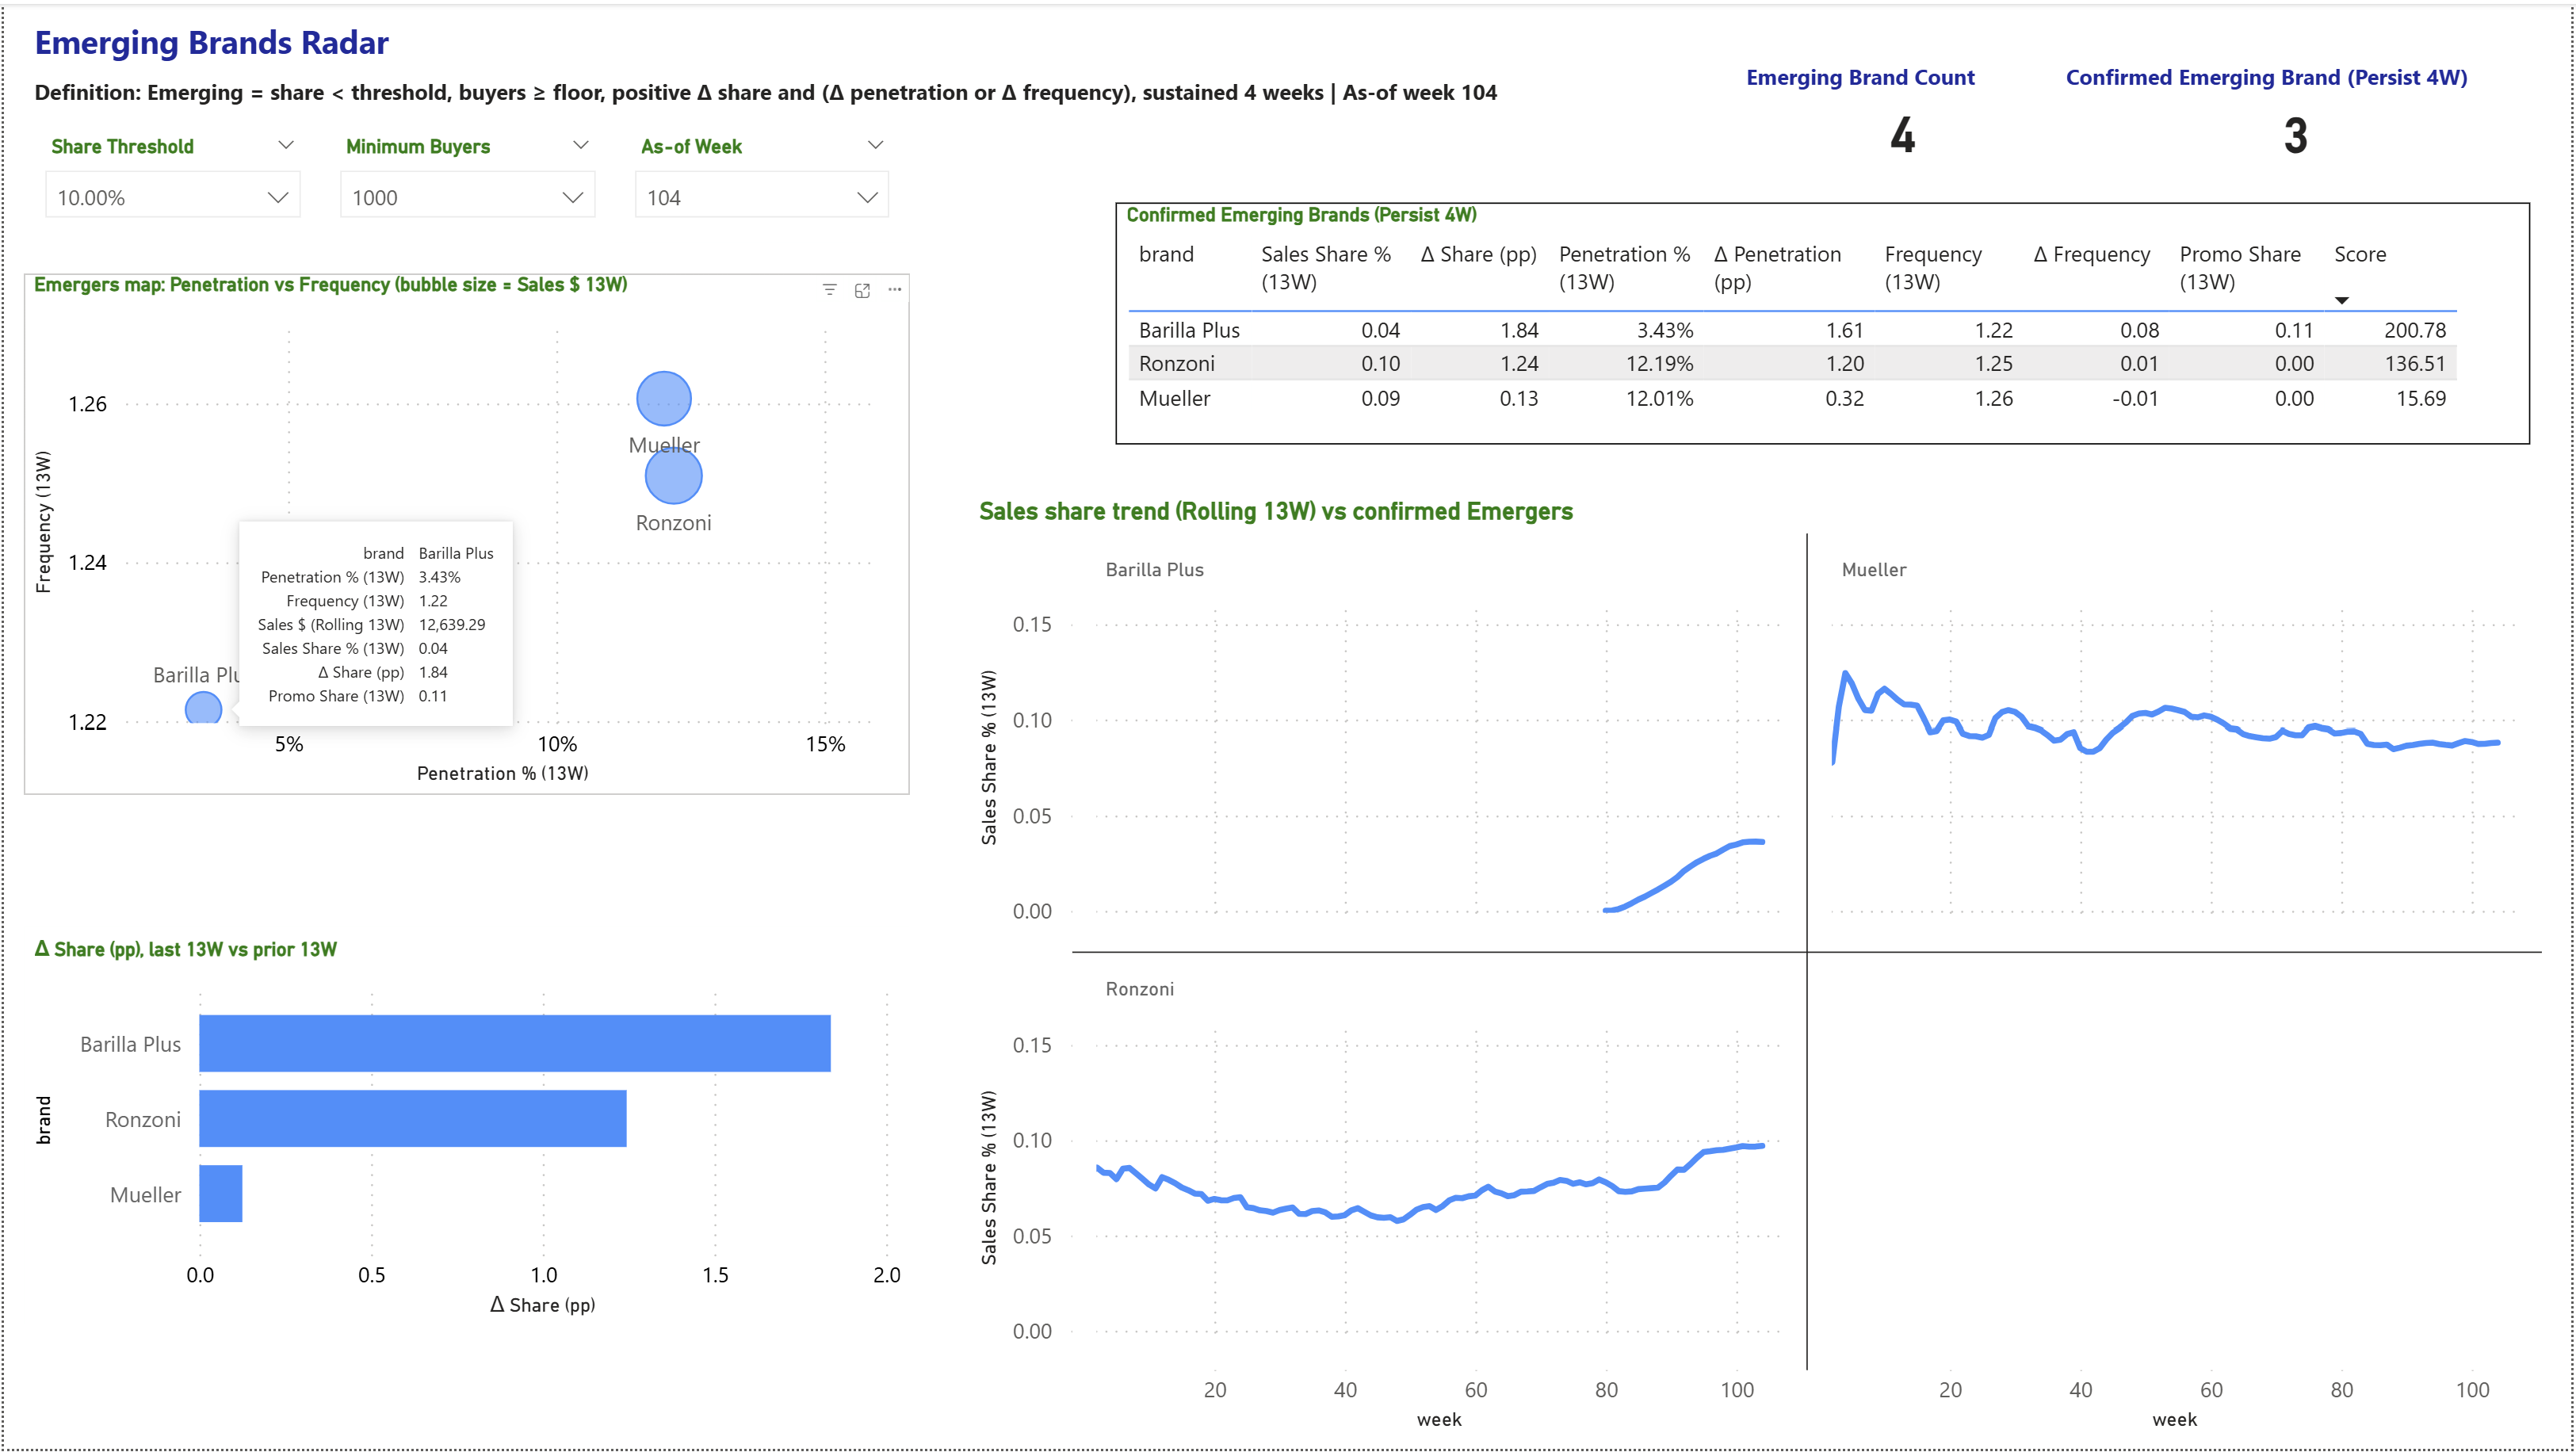

This screenshot's page, from the dashboard's own definition file:
{"tool":"powerbi","page":{"name":"03 Emerging Brands Radar","canvas":[1280,720],"ordinal":2},"visuals":[{"type":"textbox","box":[10.3,2.4,189.7,35.9],"z":0},{"type":"tableEx","title":"Confirmed Emerging Brands (Persist 4W)","fields":{"Values":["DimProduct.brand","DimWeek.Sales Share % (Rolling 13W)","zz_Measures.Δ Share (pp)","DimWeek.Penetration % (Rolling 13W)","zz_Measures.Δ Penetration (pp)","DimWeek.Frequency (Rolling 13W)","DimWeek.Δ Frequency","zz_Measures.Promo Sales Share (13W)","zz_Measures.Emerging Score"]},"box":[554.5,99.1,705.3,120.4],"z":1000},{"type":"slicer","fields":{"Values":["BuyerFloor.MinBuyers"]},"box":[157.8,60.4,147.1,57.8],"z":2000},{"type":"slicer","fields":{"Values":["AsOfWeek.Value"]},"box":[304.6,60.5,147,58.3],"z":3000},{"type":"slicer","fields":{"Values":["ShareThreshold.SharePct"]},"box":[10.7,60.4,147.1,57.8],"z":4000},{"type":"scatterChart","title":"Emergers map: Penetration vs Frequency (bubble size = Sales $ 13W)","fields":{"X":["DimWeek.Penetration % (Rolling 13W)"],"Y":["DimWeek.Frequency (Rolling 13W)"],"Size":["DimWeek.Sales $ (Rolling 13W)"],"Category":["DimProduct.brand"]},"box":[10.3,134.4,441.4,259],"z":5000},{"type":"lineChart","title":"Sales share trend (Rolling 13W) vs confirmed Emergers","fields":{"Rows":["DimProduct.brand"],"Category":["DimDay.week"],"Y":["DimWeek.Sales Share % (Rolling 13W)"]},"box":[481.5,245.6,790.4,471.2],"z":6000},{"type":"textbox","box":[10.3,28,794.6,33.4],"z":8000},{"type":"clusteredBarChart","title":"Δ Share (pp), last 13W vs prior 13W","fields":{"Category":["DimProduct.brand"],"Y":["zz_Measures.Δ Share (pp)"]},"box":[10.3,459.6,441.4,198.8],"z":9000},{"type":"card","fields":{"Values":["zz_Measures.Emerging Count"]},"box":[893.3,27.4,106.3,73.1],"z":10000},{"type":"card","fields":{"Values":["zz_Measures.Emerging Count (Persist 4W)"]},"box":[1089.5,27.7,106.3,73.1],"z":11000},{"type":"textbox","box":[863.8,20,164.7,33.2],"z":12000},{"type":"textbox","box":[1023.3,20.3,226,34],"z":13000}]}

Visuals, with their boxes in screenshot pixels (x1, y1, x2, y2), scaled from the page's 1280x720 canvas onto the 2576x1452 screenshot:
textbox: box(21, 5, 403, 77)
"Confirmed Emerging Brands (Persist 4W)" tableEx: box(1116, 200, 2536, 443)
slicer - BuyerFloor.MinBuyers: box(318, 122, 613, 239)
slicer - AsOfWeek.Value: box(613, 122, 909, 239)
slicer - ShareThreshold.SharePct: box(21, 122, 318, 239)
"Emergers map: Penetration vs Frequency (bubble size = Sales $ 13W)" scatterChart: box(21, 271, 909, 793)
"Sales share trend (Rolling 13W) vs confirmed Emergers" lineChart: box(969, 495, 2559, 1446)
textbox: box(21, 56, 1620, 124)
"Δ Share (pp), last 13W vs prior 13W" clusteredBarChart: box(21, 927, 909, 1328)
card - zz_Measures.Emerging Count: box(1798, 55, 2012, 203)
card - zz_Measures.Emerging Count (Persist 4W): box(2192, 55, 2406, 203)
textbox: box(1738, 40, 2070, 107)
textbox: box(2059, 41, 2514, 109)
